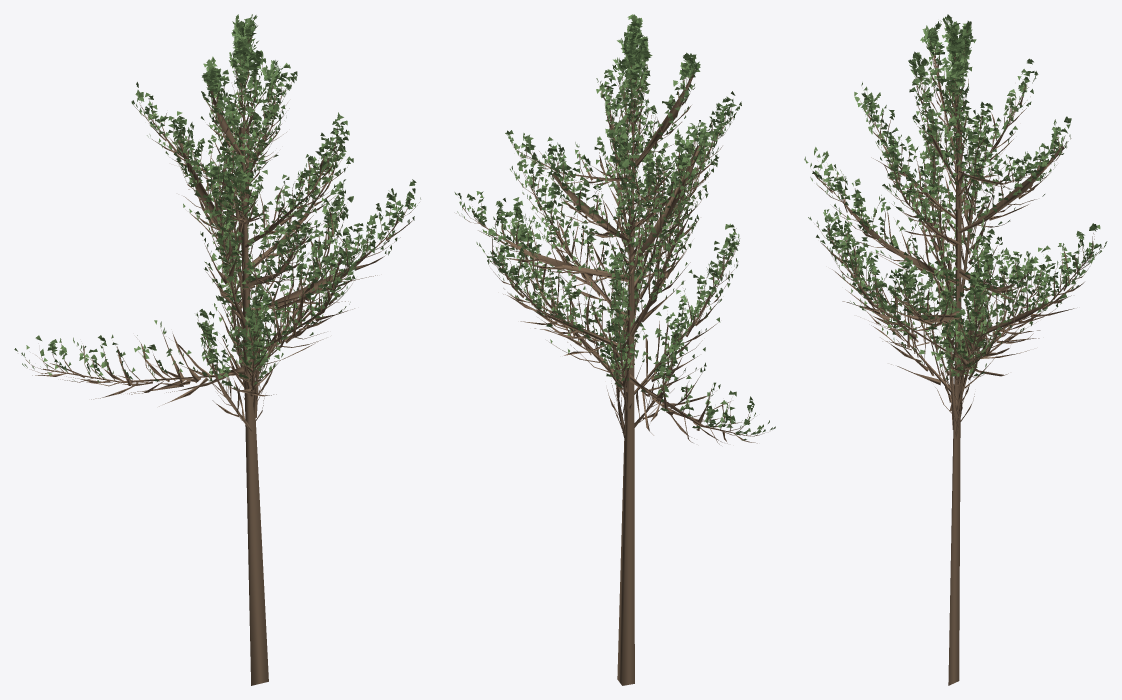
File: Pine_02_LOD0.fbx
The picture shows the model from 3 angles, left to right: view 1: azimuth 30°, elevation 25°; view 2: azimuth 150°, elevation 25°; view 3: azimuth 270°, elevation 25°; orthographic projection.
Parts seen in each view (by area): view 1: Pine; view 2: Pine; view 3: Pine.
Boxes of the visible parts, box(x1,y1,x2,y2) form: Pine: box(14, 14, 420, 685); Pine: box(454, 14, 775, 685); Pine: box(804, 14, 1107, 685).
Bounding box in the file's own units: 892 × 1740 × 721.
